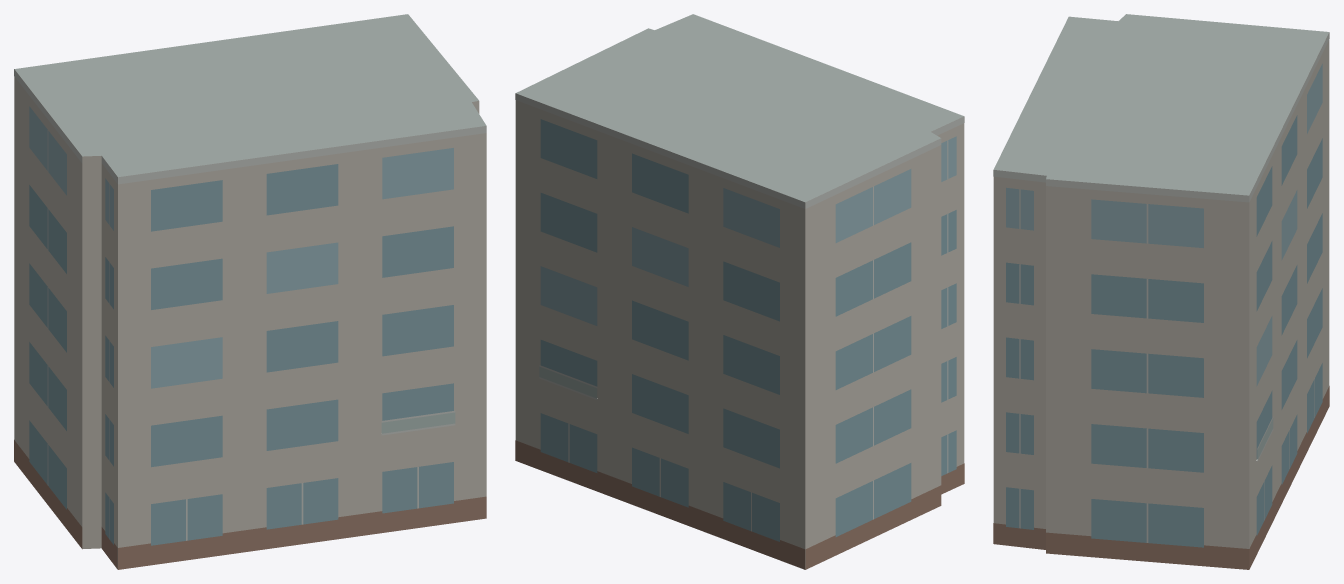
The model's file is survey-upis-32983902.glb.
3 views of the same model, side by side, from view 1: azimuth 30°, elevation 25°; view 2: azimuth 150°, elevation 25°; view 3: azimuth 270°, elevation 25° (orthographic). The views are drawn at different scales.
Visible parts, largest first — view 1: survey-upis-32983902.tmp; view 2: survey-upis-32983902.tmp; view 3: survey-upis-32983902.tmp.
Part boxes in pixels (box(x1,y1,x2,y2)): survey-upis-32983902.tmp: box(14, 14, 486, 569); survey-upis-32983902.tmp: box(515, 14, 964, 569); survey-upis-32983902.tmp: box(993, 14, 1329, 569).
Size of the model in its own units: 13.85 by 13.3 by 10.83.
